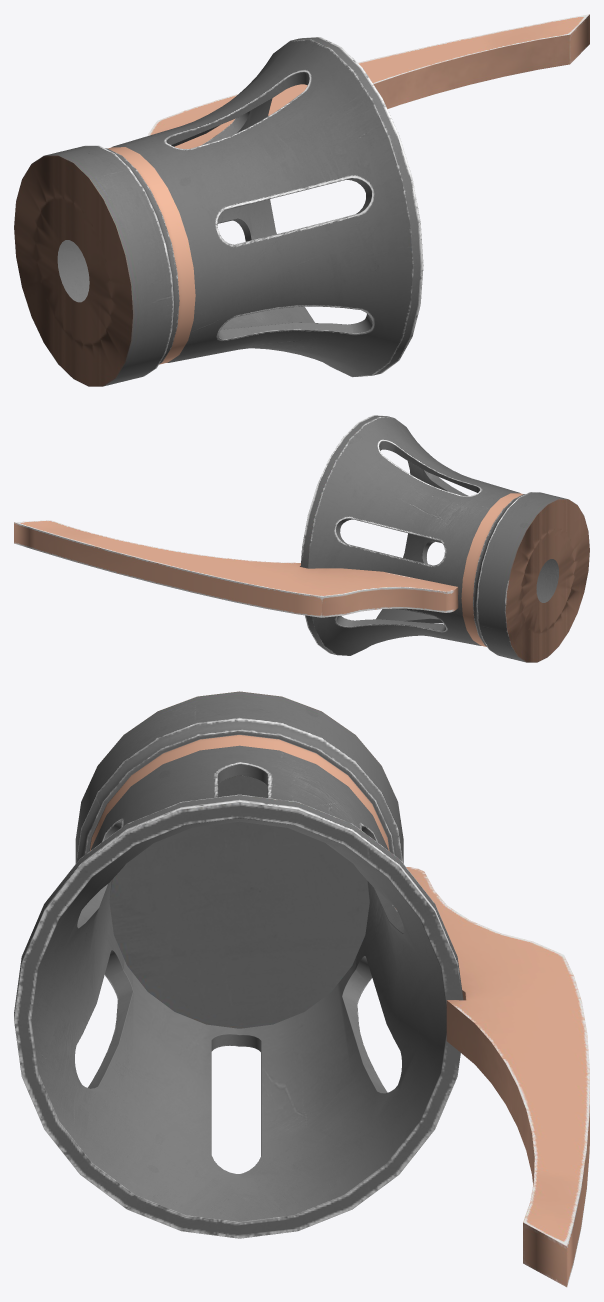
File: guard_20_r_c.glb
3 views of the same model, one above another, from view 1: azimuth 30°, elevation 25°; view 2: azimuth 150°, elevation 25°; view 3: azimuth 270°, elevation 25° (orthographic). The views are drawn at different scales.
Visible parts, largest first — view 1: guard_20_r_c_lod0; view 2: guard_20_r_c_lod0; view 3: guard_20_r_c_lod0.
Boxes of the visible parts, x1,y1,x2,y2 form: guard_20_r_c_lod0: [14, 14, 589, 386]; guard_20_r_c_lod0: [14, 415, 589, 662]; guard_20_r_c_lod0: [14, 691, 589, 1287].
Size of what is drawn, in the model's own units: 0.0892 by 0.0426 by 0.0509.
1 material, 1 textured.
